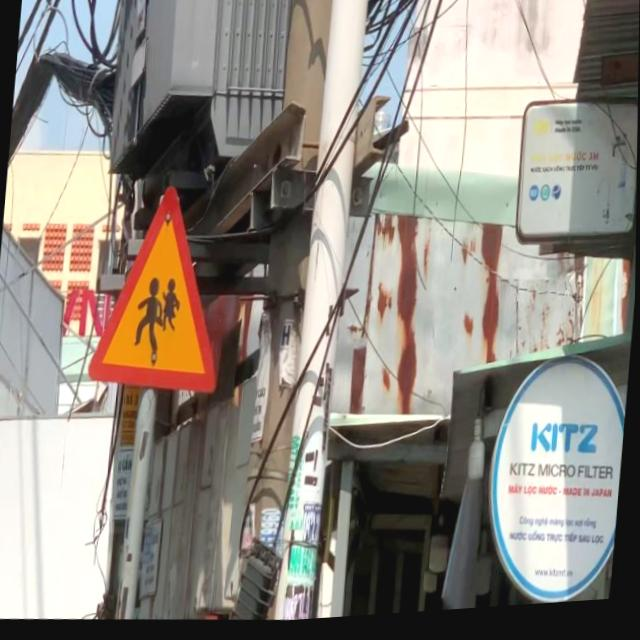Tre em: (84, 176, 235, 405)
